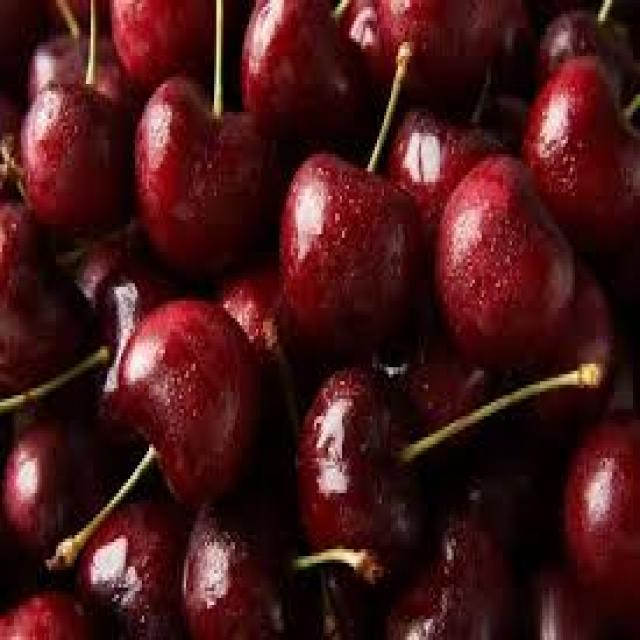organic waste: (112, 297, 270, 507), (274, 144, 424, 360), (430, 147, 572, 371), (386, 458, 556, 637), (289, 364, 428, 577), (130, 73, 272, 270), (524, 56, 638, 252), (235, 0, 379, 154), (0, 189, 102, 399), (0, 409, 119, 574), (556, 406, 638, 619), (16, 66, 128, 210), (367, 0, 537, 94), (177, 507, 293, 637), (396, 91, 516, 213), (77, 500, 181, 637), (396, 329, 505, 458), (72, 214, 186, 318), (530, 262, 610, 406), (109, 0, 237, 80), (521, 560, 617, 636), (218, 262, 288, 360), (23, 31, 135, 91), (0, 588, 105, 636), (0, 91, 19, 178)
